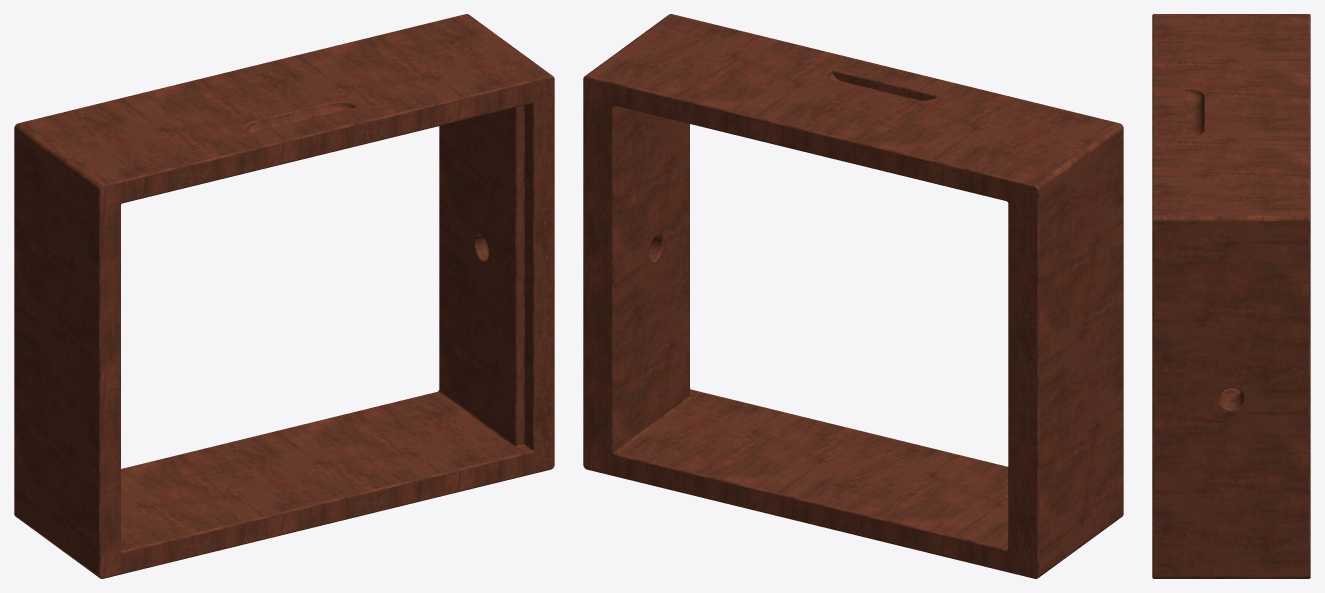
Rendered from stack.obj.
3 views of the same model, side by side, from view 1: azimuth 30°, elevation 25°; view 2: azimuth 150°, elevation 25°; view 3: azimuth 270°, elevation 25° (orthographic). The views are drawn at different scales.
Parts seen in each view (by area): view 1: stack; view 2: stack; view 3: stack.
Part boxes in pixels (x1=…): stack: x1=14, y1=14, x2=554, y2=578; stack: x1=583, y1=14, x2=1123, y2=578; stack: x1=1152, y1=14, x2=1310, y2=578.
Size of the model in its own units: 515 by 425 by 168.
Materials: 1 (1 with a texture image).
